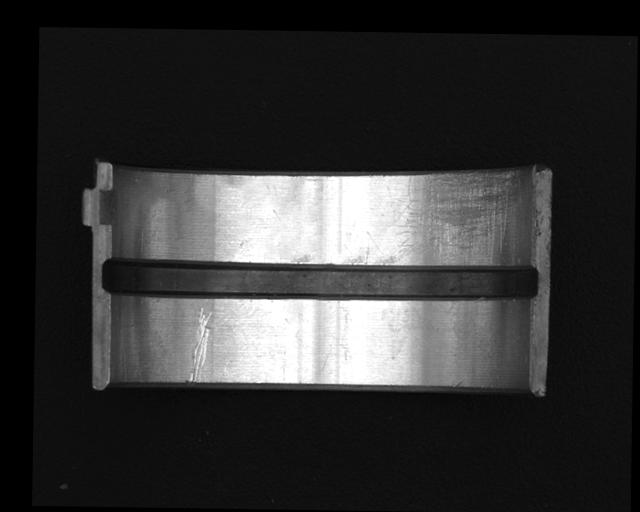gap: (100, 255, 539, 302)
nick: (186, 306, 213, 384)
scratch: (379, 166, 522, 267)
